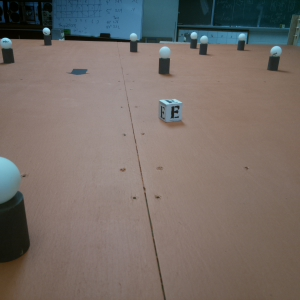obstacle: (1, 156, 37, 267), (265, 45, 282, 75), (156, 47, 172, 76), (1, 38, 18, 65), (43, 28, 54, 48), (199, 36, 209, 57), (129, 34, 140, 53), (236, 33, 247, 52), (190, 33, 197, 51)
